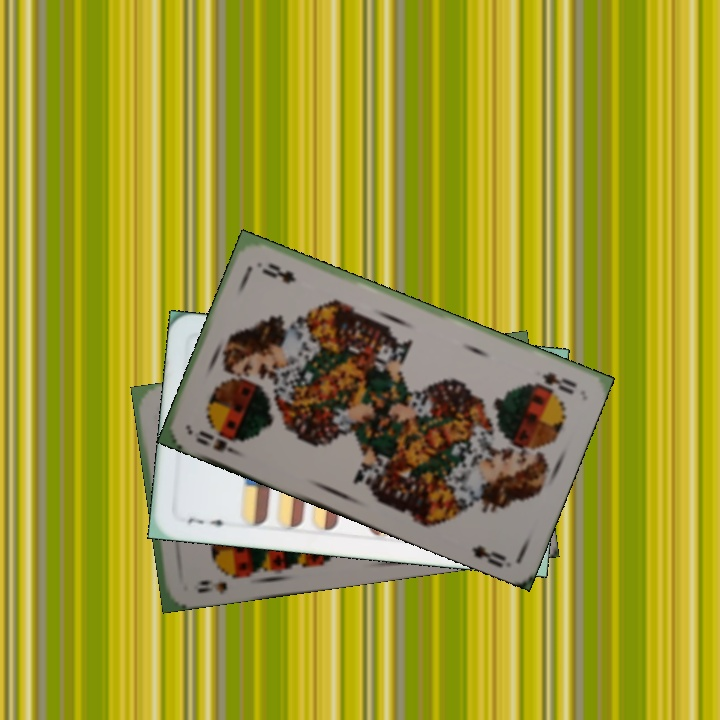E7: (183, 513, 233, 529)
S9: (193, 567, 242, 596)
SO: (192, 426, 244, 459), (538, 368, 580, 397)
